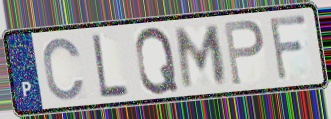C: (41, 35, 87, 103)
F: (267, 12, 310, 84)
L: (90, 31, 131, 99)
M: (174, 23, 229, 91)
P: (221, 18, 266, 88)
Q: (133, 24, 181, 97)
